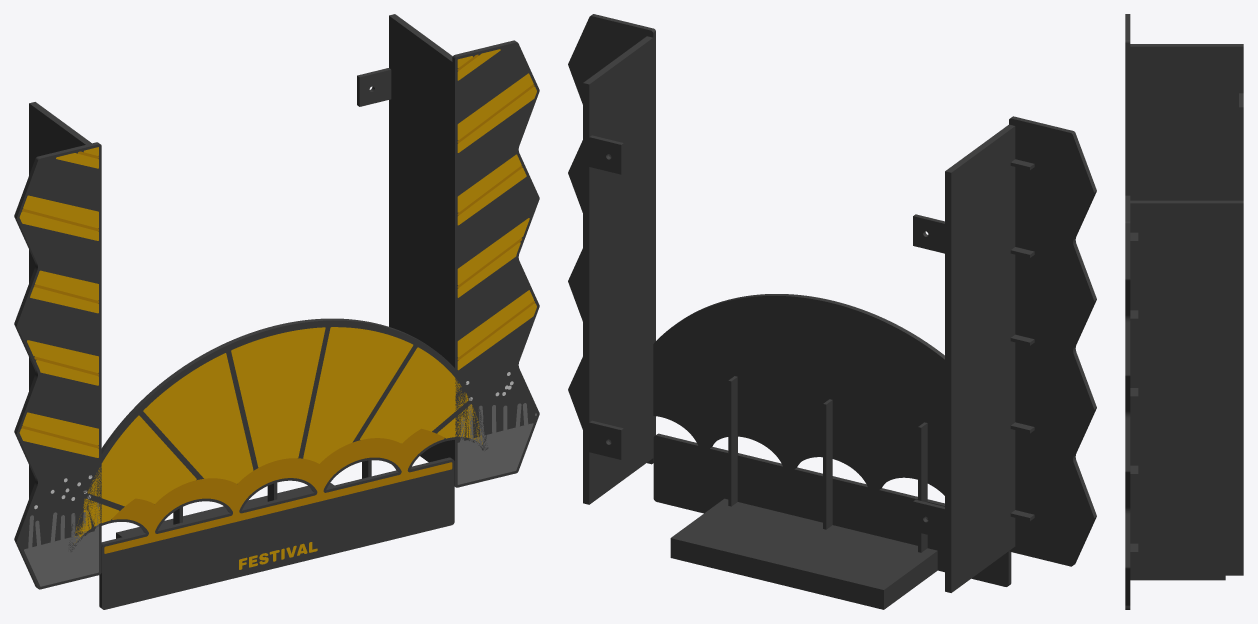
File: parts.glb
The picture shows the model from 3 angles, left to right: view 1: azimuth 30°, elevation 25°; view 2: azimuth 150°, elevation 25°; view 3: azimuth 270°, elevation 25°; orthographic projection. The views are drawn at different scales.
Visible parts, largest first — view 1: wing_right__base, topper__orange, topper__base, wing_left__base, topper__ember, wing_right__orange, wing_left__orange, wing_right__grey, wing_left__grey, wing_right__ember, wing_left__ember; view 2: topper__base, wing_left__base, wing_right__base; view 3: wing_right__base, wing_left__base, topper__base.
Part boxes in pixels (x1,y1,x2,y2): wing_right__base: (357,14,539,487); topper__orange: (74,327,482,569); topper__base: (68,318,488,609); wing_left__base: (14,102,101,589); topper__ember: (104,428,452,553); wing_right__orange: (457,49,536,370); wing_left__orange: (19,147,98,457); wing_right__grey: (457,403,536,484); wing_left__grey: (24,502,98,586); wing_right__ember: (457,54,534,360); wing_left__ember: (21,151,98,448); topper__base: (653,294,1042,609); wing_left__base: (913,116,1096,592); wing_right__base: (568,14,655,504); wing_right__base: (1125,195,1243,605); wing_left__base: (1125,14,1243,200); topper__base: (1125,575,1225,609).
Bounding box in the file's own units: 333 × 284 × 73.
